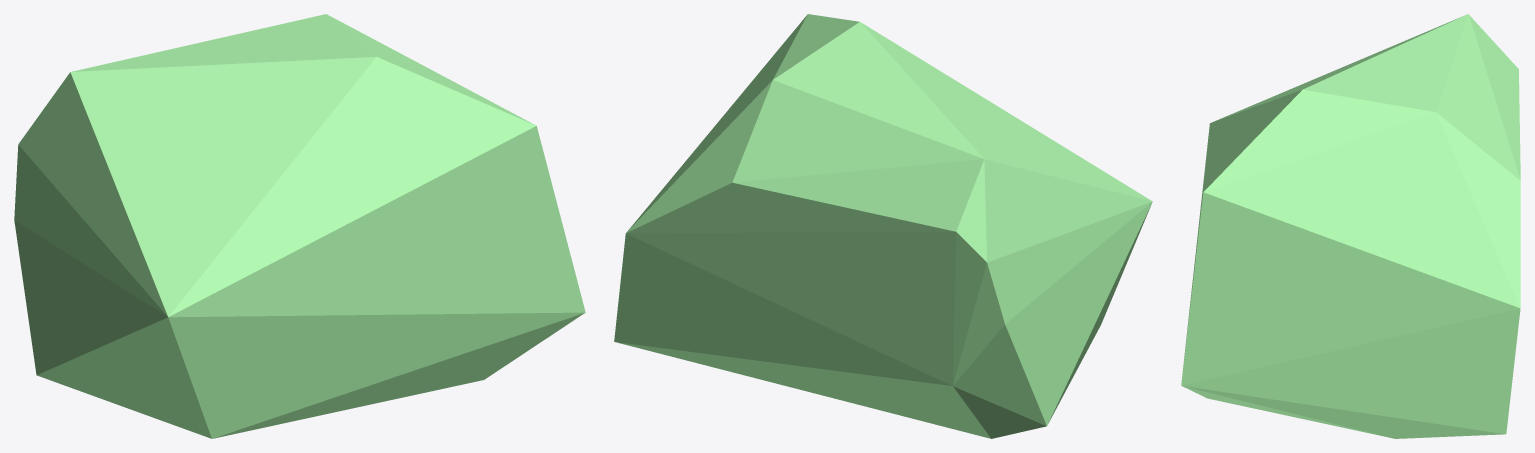
The model's file is palle_scrotali_buone_L3_respondable_ECM_coll_3.dae.
3 renders of one model, left to right at view 1: azimuth 30°, elevation 25°; view 2: azimuth 150°, elevation 25°; view 3: azimuth 270°, elevation 25°, orthographic. The views are drawn at different scales.
Visible parts, largest first — view 1: Node_000002334E246960; view 2: Node_000002334E246960; view 3: Node_000002334E246960.
Boxes of the visible parts, x1,y1,x2,y2 form: Node_000002334E246960: [14, 14, 585, 438]; Node_000002334E246960: [614, 14, 1152, 438]; Node_000002334E246960: [1181, 14, 1520, 438].
Bounding box in the file's own units: 0.0401 × 0.032 × 0.03.
